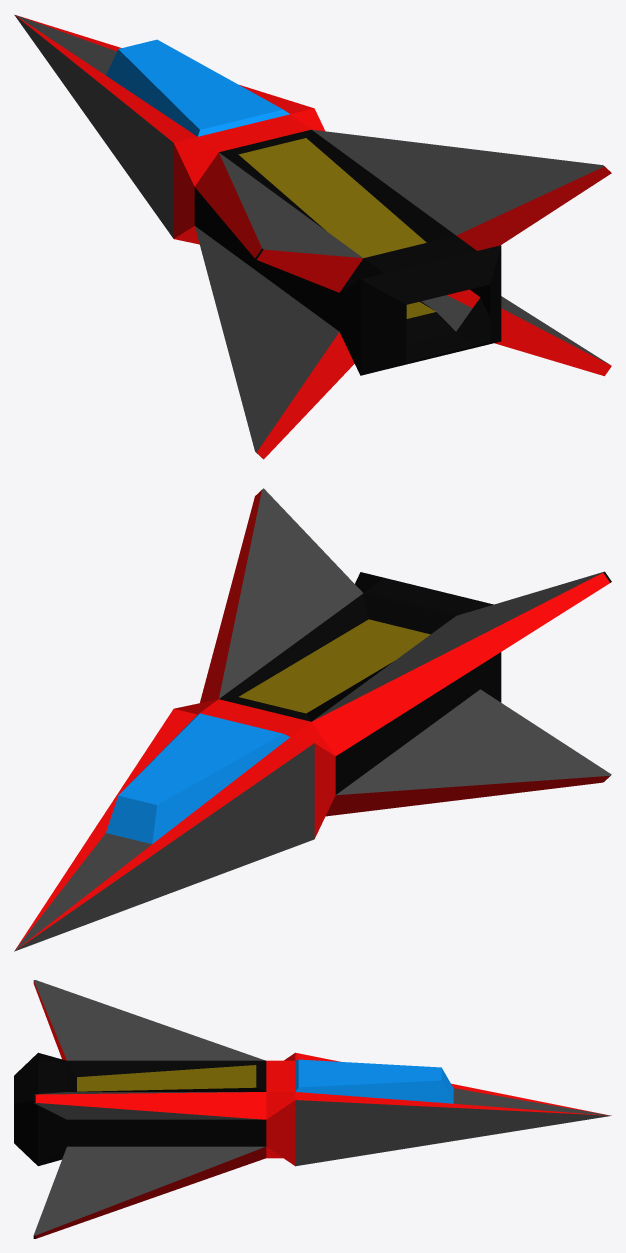
The model's file is Lvl2Enemy.fbx.
3 views of the same model, one above another, from view 1: azimuth 30°, elevation 25°; view 2: azimuth 150°, elevation 25°; view 3: azimuth 270°, elevation 25° (orthographic). The views are drawn at different scales.
Parts seen in each view (by area): view 1: Lvl2Enemy; view 2: Lvl2Enemy; view 3: Lvl2Enemy.
Part boxes in pixels (x1,y1,x2,y2): Lvl2Enemy: (14, 14, 611, 459); Lvl2Enemy: (14, 488, 611, 951); Lvl2Enemy: (14, 980, 611, 1238).
Size of the model in its own units: 178 by 101 by 378.
